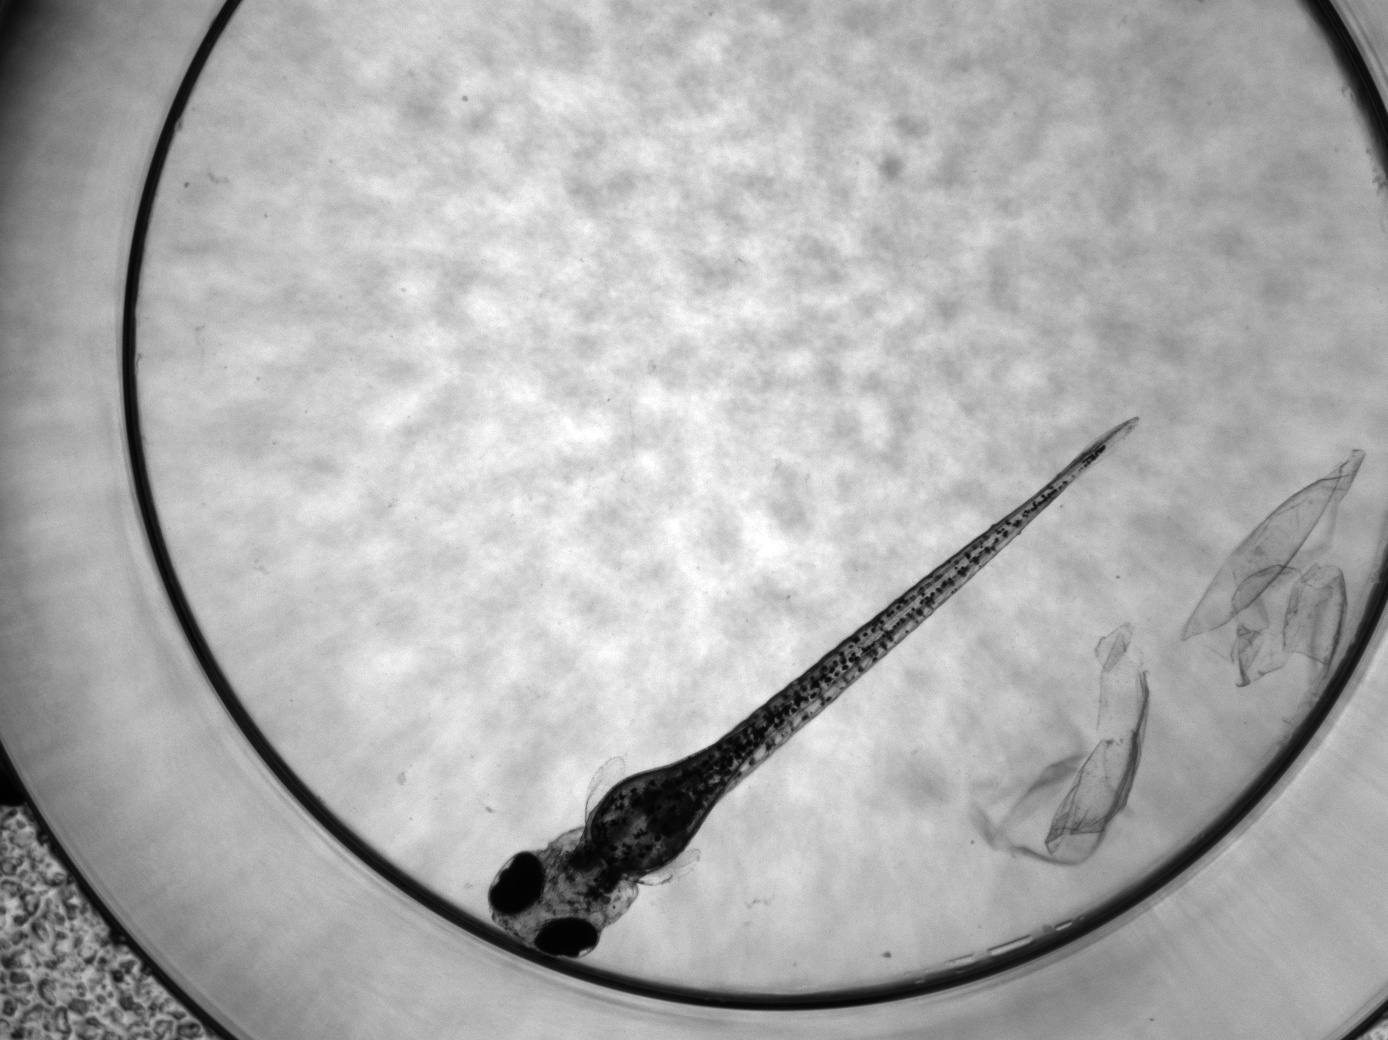embryo: (489, 412, 1143, 961)
eye: (489, 852, 545, 915), (533, 918, 598, 960)
yolksac: (590, 767, 700, 876)
